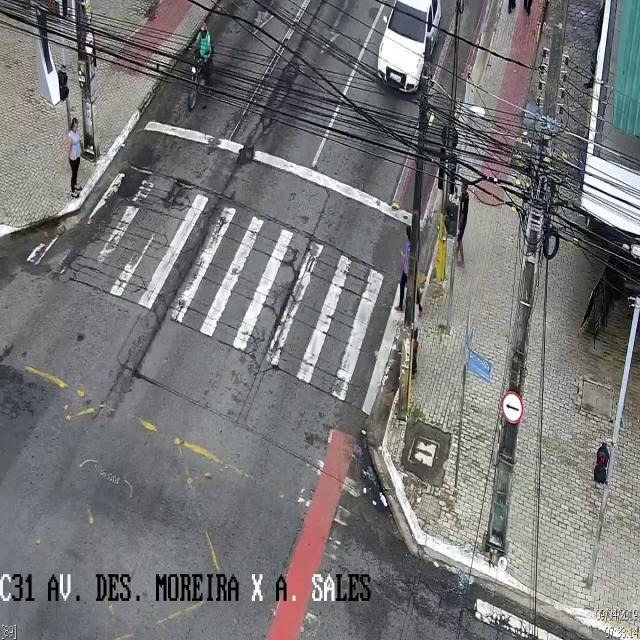Car: (376, 1, 440, 89)
Motorcycle: (186, 20, 214, 110)
